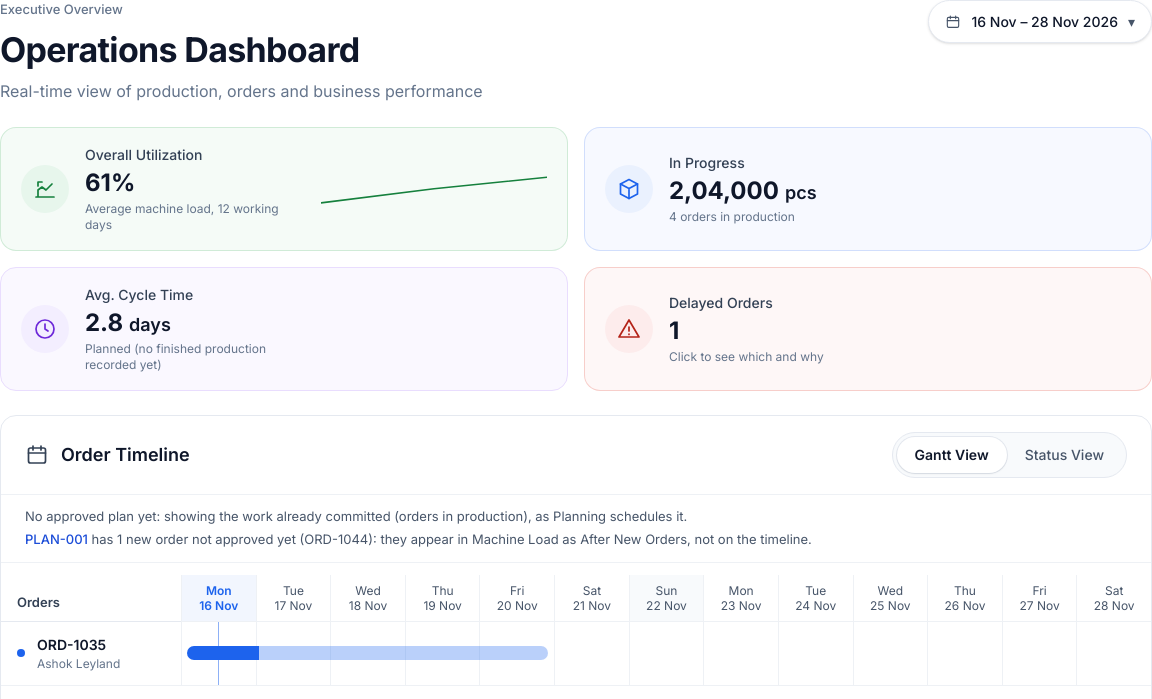
executive dashboard: KPIs, timeline, machine overload detail, customers and alerts that link to the source
Expected: the heading "Operations Dashboard" is shown, left=0, top=28, right=360, bottom=70
Expected: the text "61%" is shown, left=85, top=168, right=135, bottom=196
# delayed orders open the list with the reason, linking to the order
Click the button "Delayed Orders 1 Click to see which and why". click: coordinates (629, 328)
box: left=584, top=266, right=1151, bottom=390
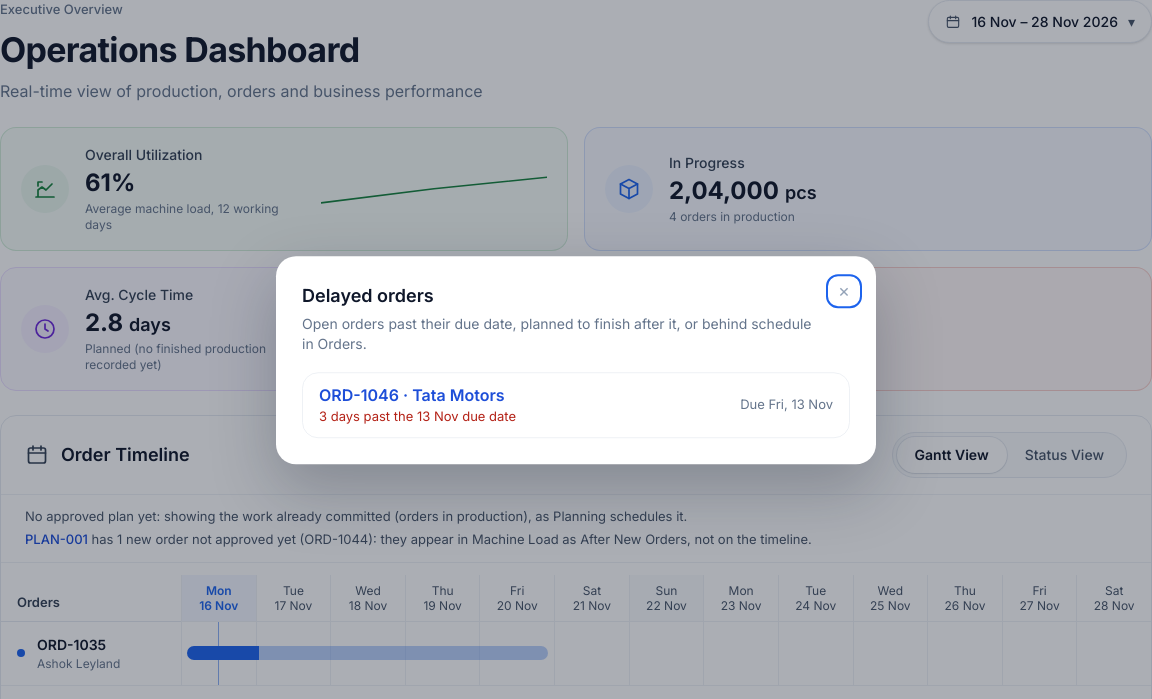
Now the text "3 days past the 13 Nov due date" is shown, box left=319, top=407, right=516, bottom=427
Press Escape in the dialog "Delayed orders", box left=276, top=256, right=876, bottom=464
(page scrolled)
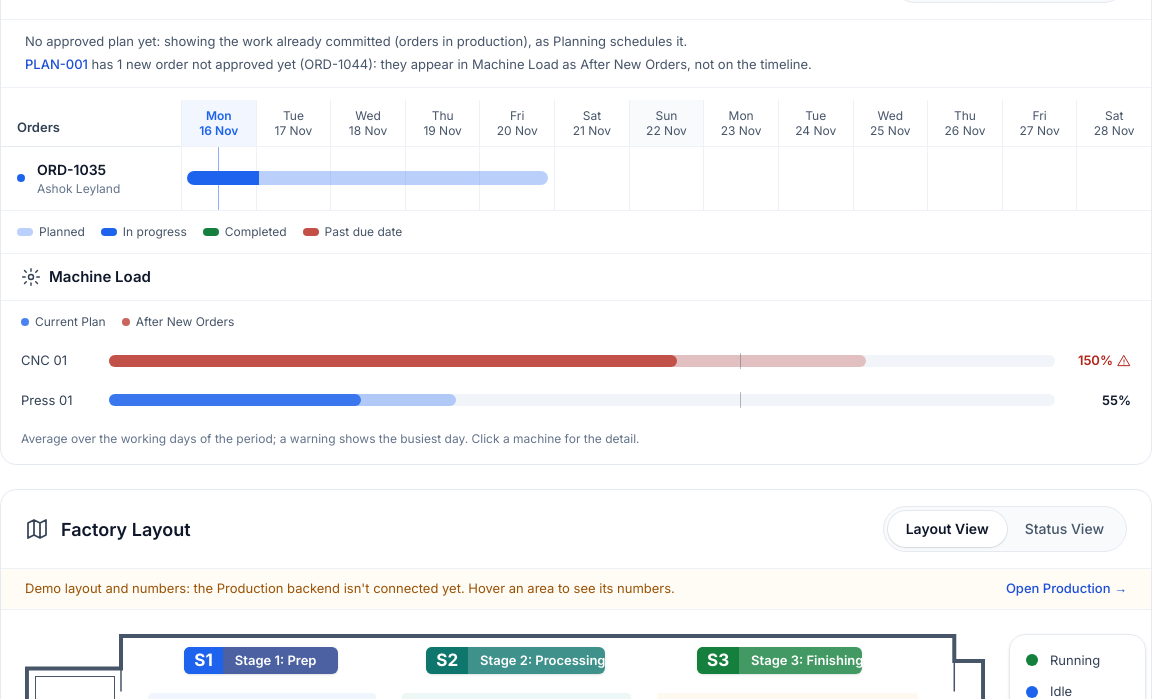
Expected: the text "has 1 new order not approved yet" is shown, left=25, top=56, right=812, bottom=72
# overloaded machine: what causes it
Click the button named "CNC 01: current plan 90%, after new orders 120%, over capacity". click: coordinates (576, 361)
box: left=13, top=343, right=1139, bottom=378
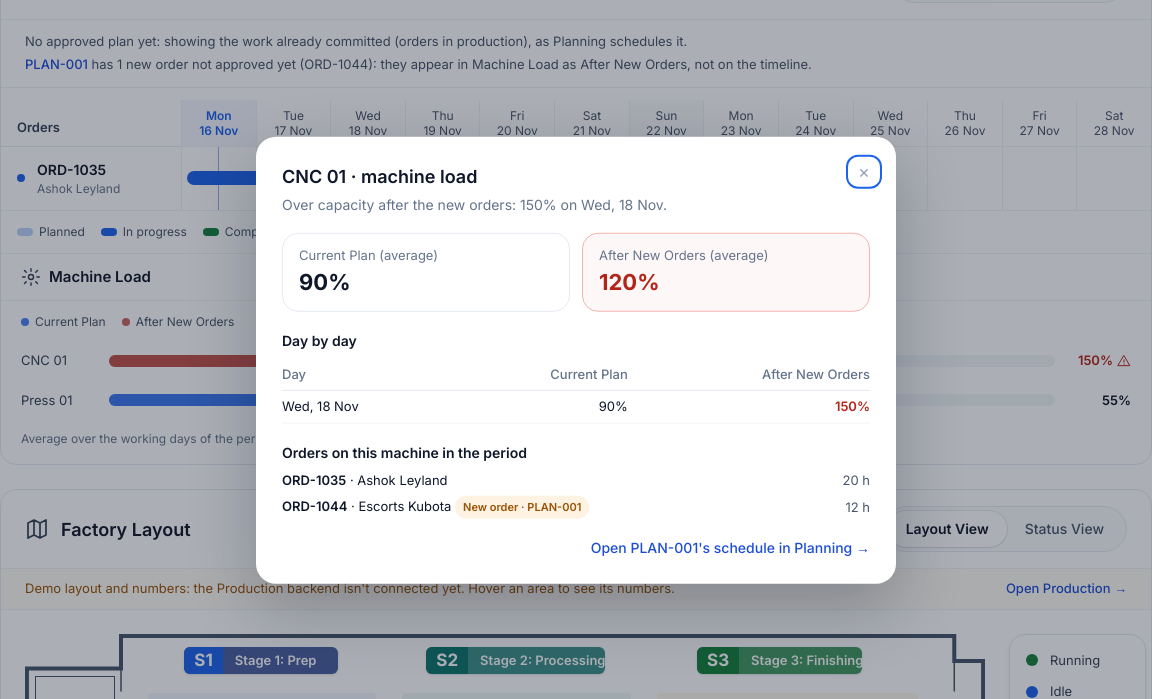
Now the text "Over capacity after the new orders: 150% on Wed, 18 Nov." is shown, box left=282, top=196, right=667, bottom=213
Now the text "New order · PLAN-001" is shown, box left=455, top=496, right=589, bottom=518
Press Escape in the dialog "CNC 01 · machine load", box left=256, top=137, right=896, bottom=583
(page scrolled)
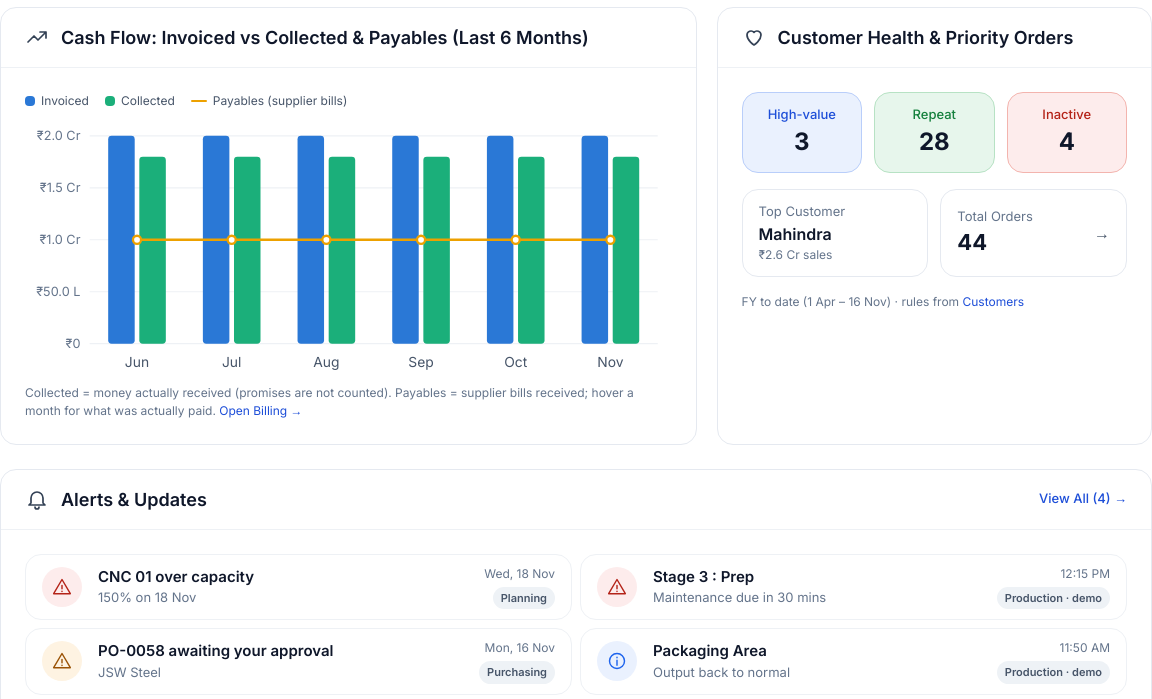
Click the button "View All (4) →". click: coordinates (1083, 499)
box: left=1039, top=490, right=1127, bottom=509
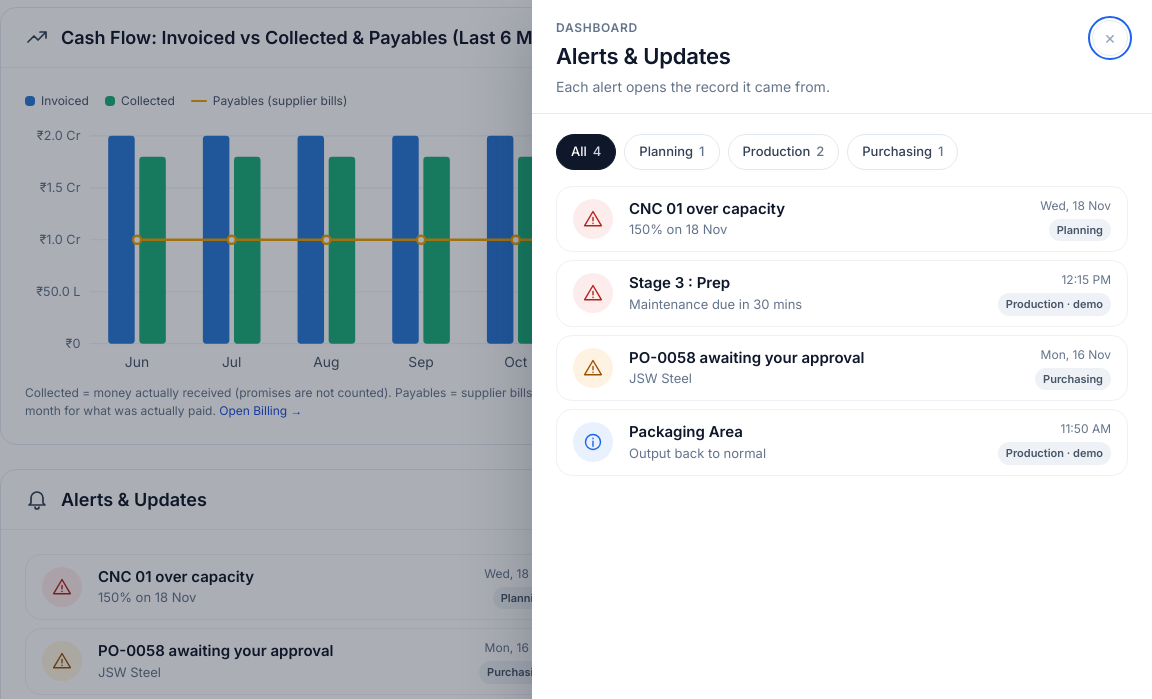
Now the 1st text "Production · demo" is shown, box left=998, top=293, right=1111, bottom=316
